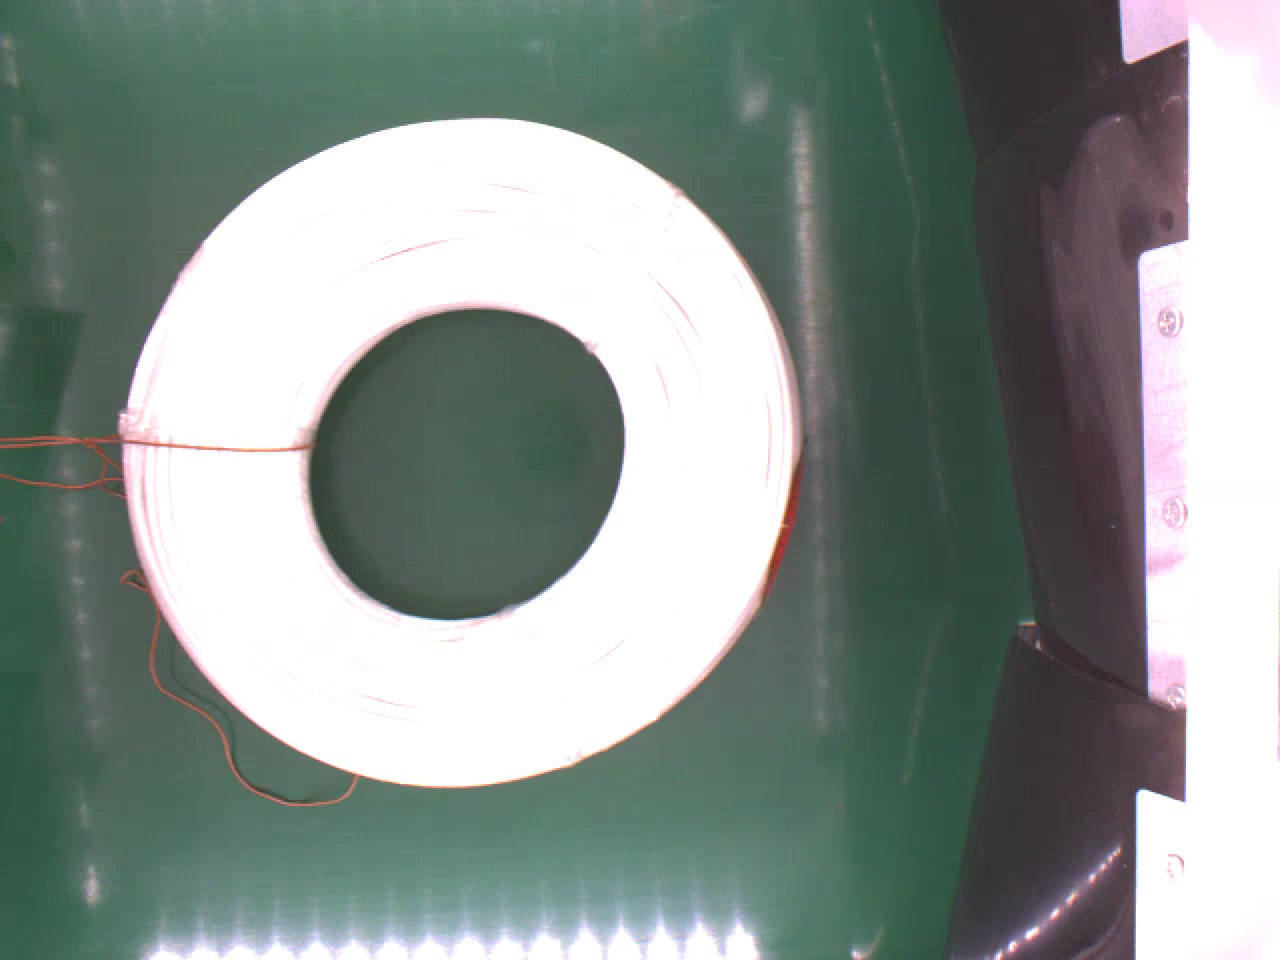white: (120, 114, 789, 786)
